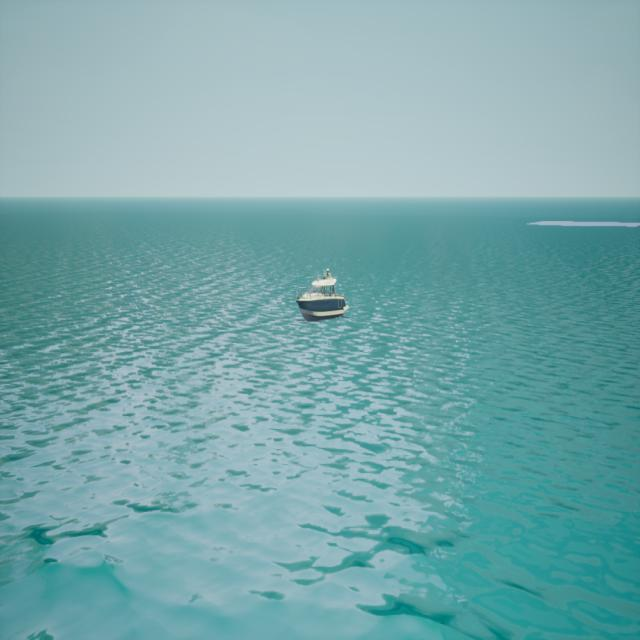ship: (296, 267, 346, 319)
